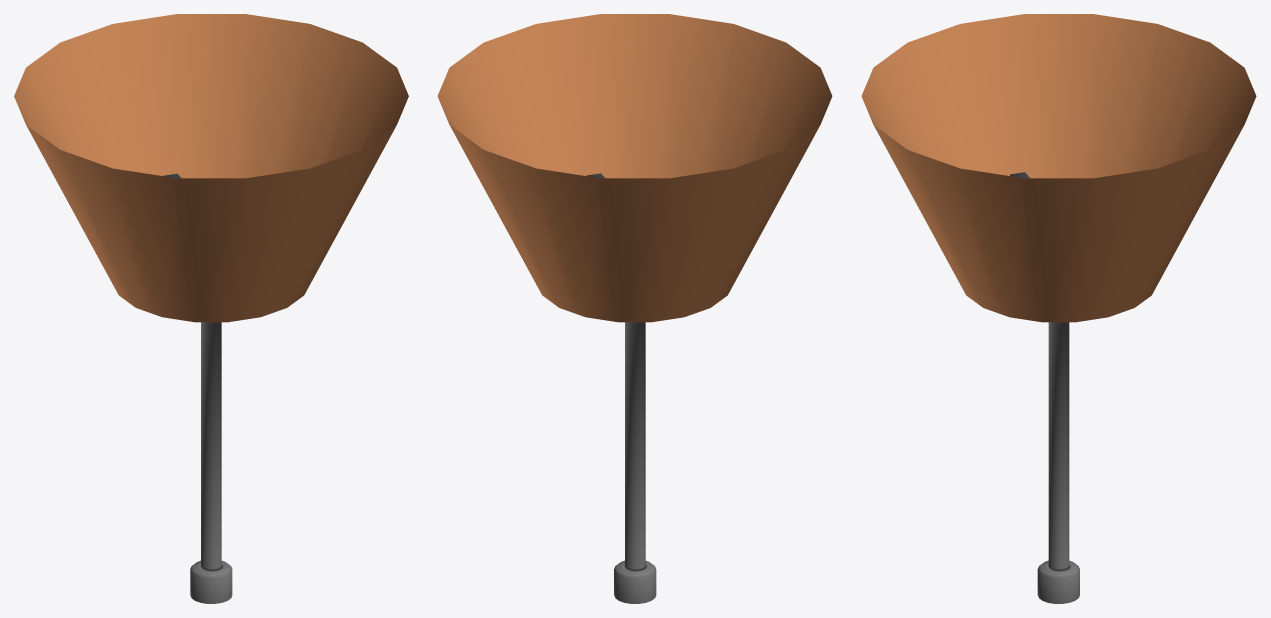
The model's file is Dining room light.fbx.
The picture shows the model from 3 angles, left to right: view 1: azimuth 30°, elevation 25°; view 2: azimuth 150°, elevation 25°; view 3: azimuth 270°, elevation 25°; orthographic projection.
Parts seen in each view (by area): view 1: Circle.001, Circle; view 2: Circle.001, Circle; view 3: Circle.001, Circle.
Boxes of the visible parts, x1,y1,x2,y2 form: Circle.001: (14,14,408,322); Circle: (163,173,232,603); Circle.001: (437,14,832,322); Circle: (586,173,656,603); Circle.001: (861,14,1256,322); Circle: (1010,172,1079,603).
Bounding box in the file's own units: 180 × 254 × 182.
